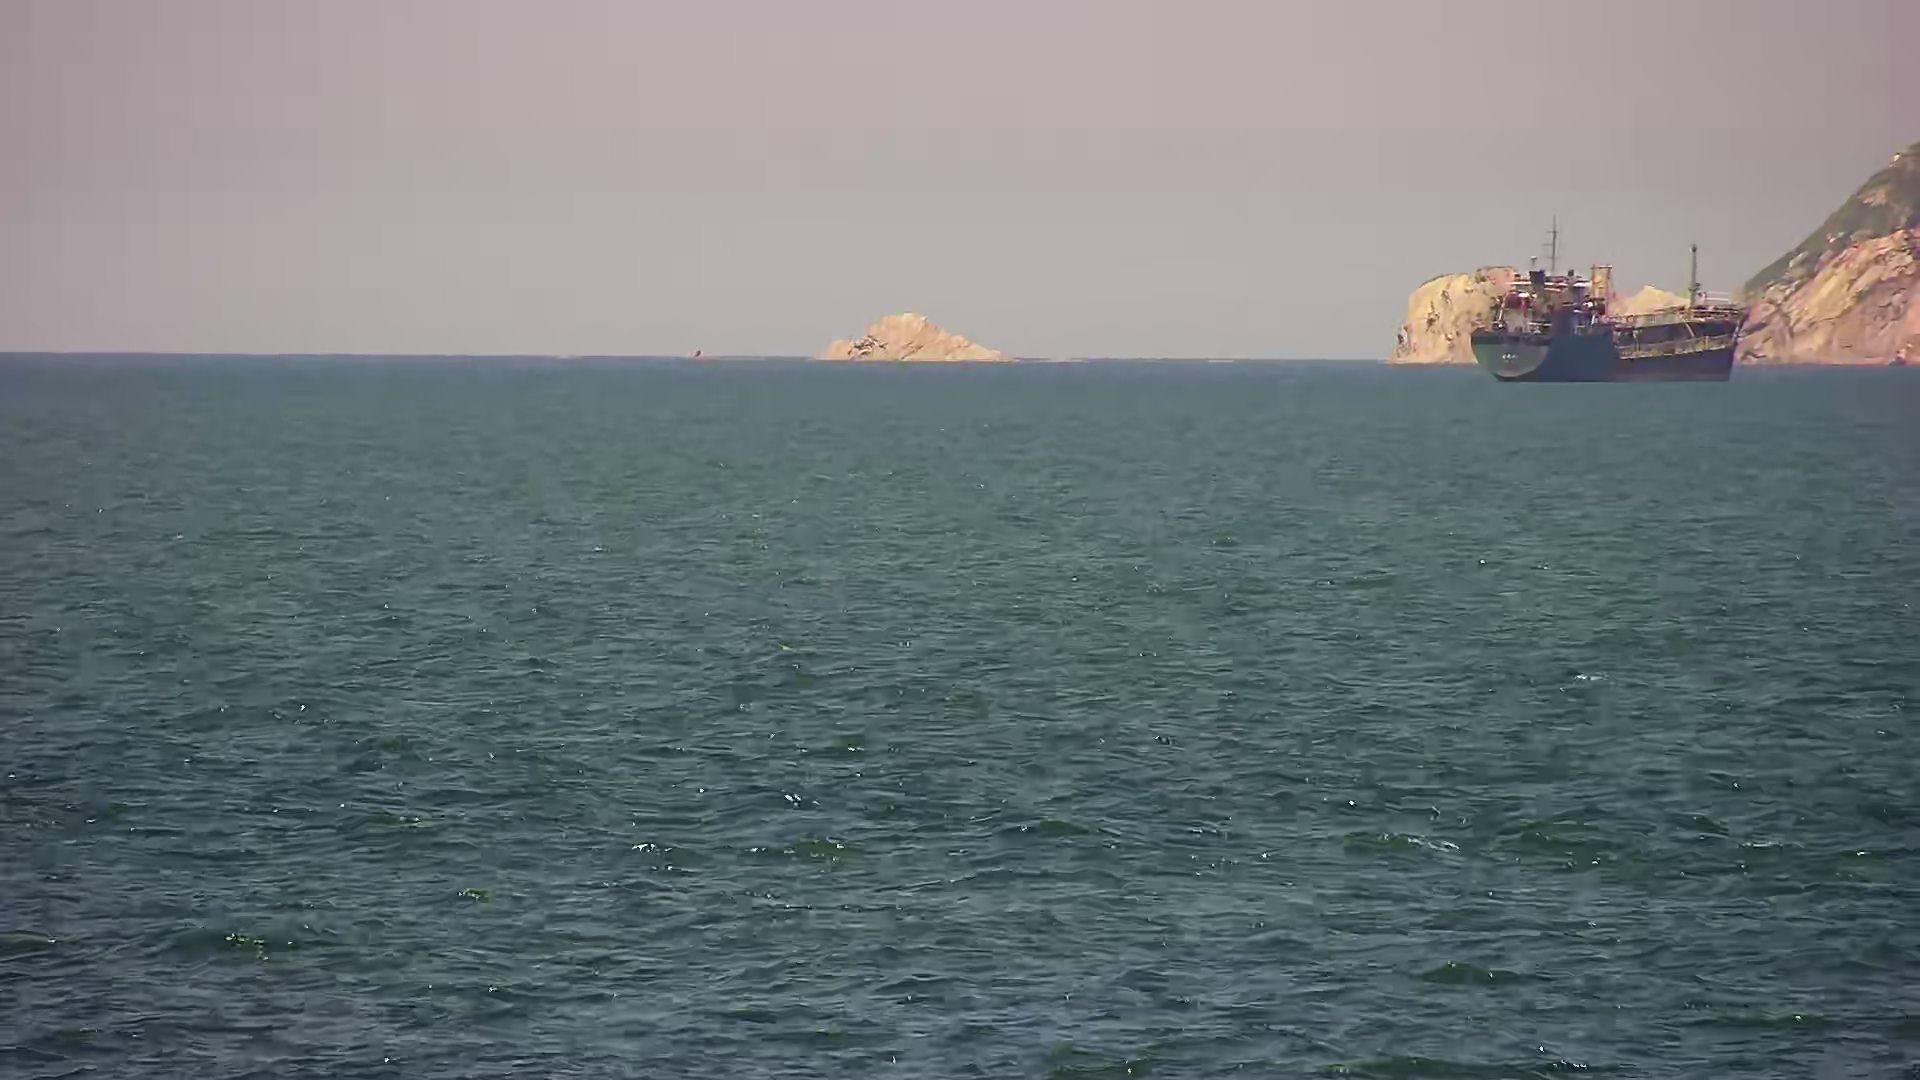rock: (1365, 131, 1920, 368), (810, 299, 1026, 365)
ship: (1455, 247, 1755, 397)
